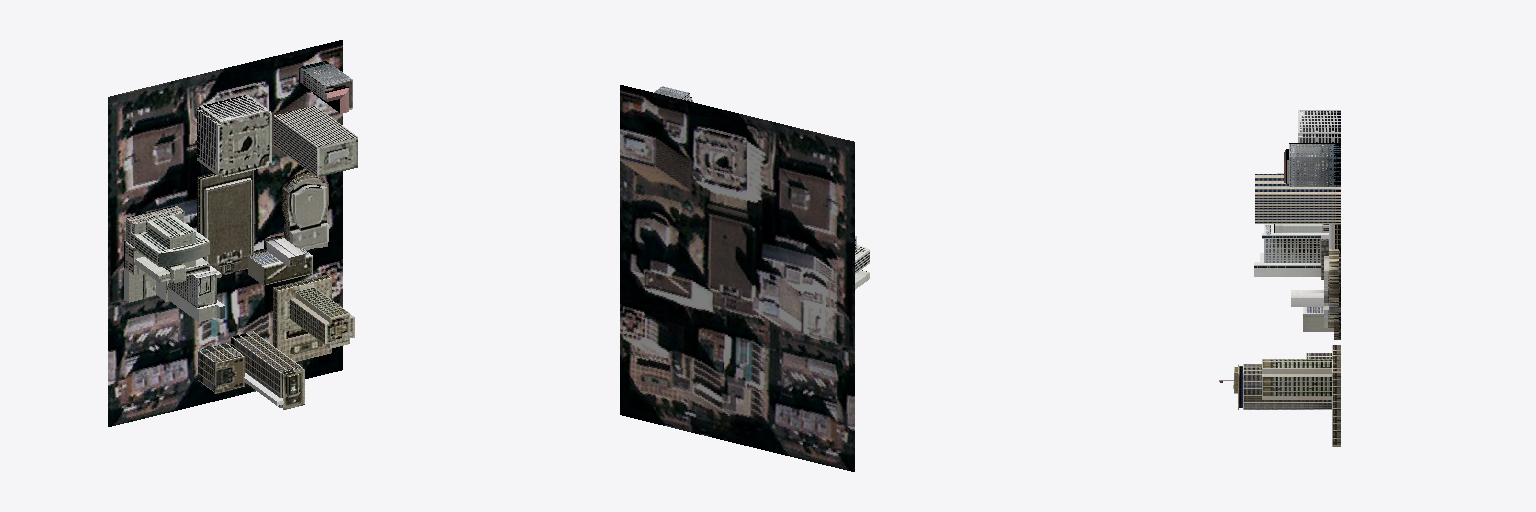
3 renders of one model, left to right at view 1: azimuth 30°, elevation 25°; view 2: azimuth 150°, elevation 25°; view 3: azimuth 270°, elevation 25°, orthographic.
Parts seen in each view (by area): view 1: VIFS22, VIFS10, VIFS13, VIFS07, VIFS03, VIFS09, VIFS16, VIFS19, VIFS14, VIFS15, VIFS08, VIFS01 (+8 smaller); view 2: VIFS22, VIFS13; view 3: VIFS15, VIFS03, VIFS11, VIFS01, VIFS19, VIFS08, VIFS07, VIFS05.
Part boxes in pixels (left/top/right/bottom): VIFS22: left=108, top=40, right=342, bottom=426; VIFS10: left=201, top=170, right=253, bottom=274; VIFS13: left=124, top=206, right=208, bottom=301; VIFS07: left=281, top=172, right=328, bottom=249; VIFS03: left=274, top=106, right=357, bottom=176; VIFS09: left=218, top=110, right=271, bottom=177; VIFS16: left=278, top=278, right=354, bottom=361; VIFS19: left=231, top=331, right=303, bottom=407; VIFS14: left=129, top=210, right=209, bottom=302; VIFS15: left=273, top=274, right=353, bottom=348; VIFS08: left=197, top=95, right=270, bottom=177; VIFS01: left=299, top=61, right=352, bottom=113; VIFS22: left=620, top=85, right=854, bottom=471; VIFS13: left=855, top=236, right=869, bottom=289; VIFS15: left=1262, top=345, right=1340, bottom=446; VIFS03: left=1255, top=174, right=1340, bottom=223; VIFS11: left=1254, top=224, right=1328, bottom=279; VIFS01: left=1284, top=143, right=1340, bottom=186; VIFS19: left=1219, top=364, right=1331, bottom=409; VIFS08: left=1298, top=110, right=1340, bottom=142; VIFS07: left=1324, top=249, right=1340, bottom=339; VIFS05: left=1291, top=290, right=1333, bottom=331.
Size of the model in its own units: 268 by 360 by 121.
23 materials, 22 textured.